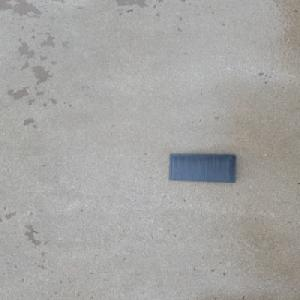PlasticPart: (166, 152, 239, 183)
